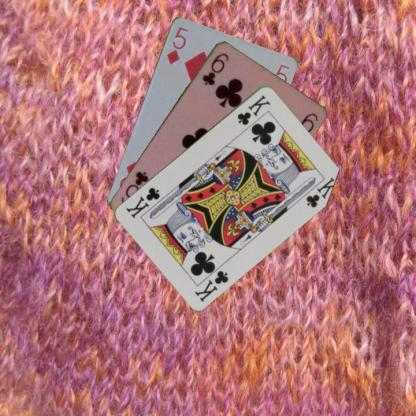5d: (162, 24, 189, 66)
6c: (199, 50, 230, 86)
Kc: (192, 268, 230, 302), (235, 92, 272, 126)
